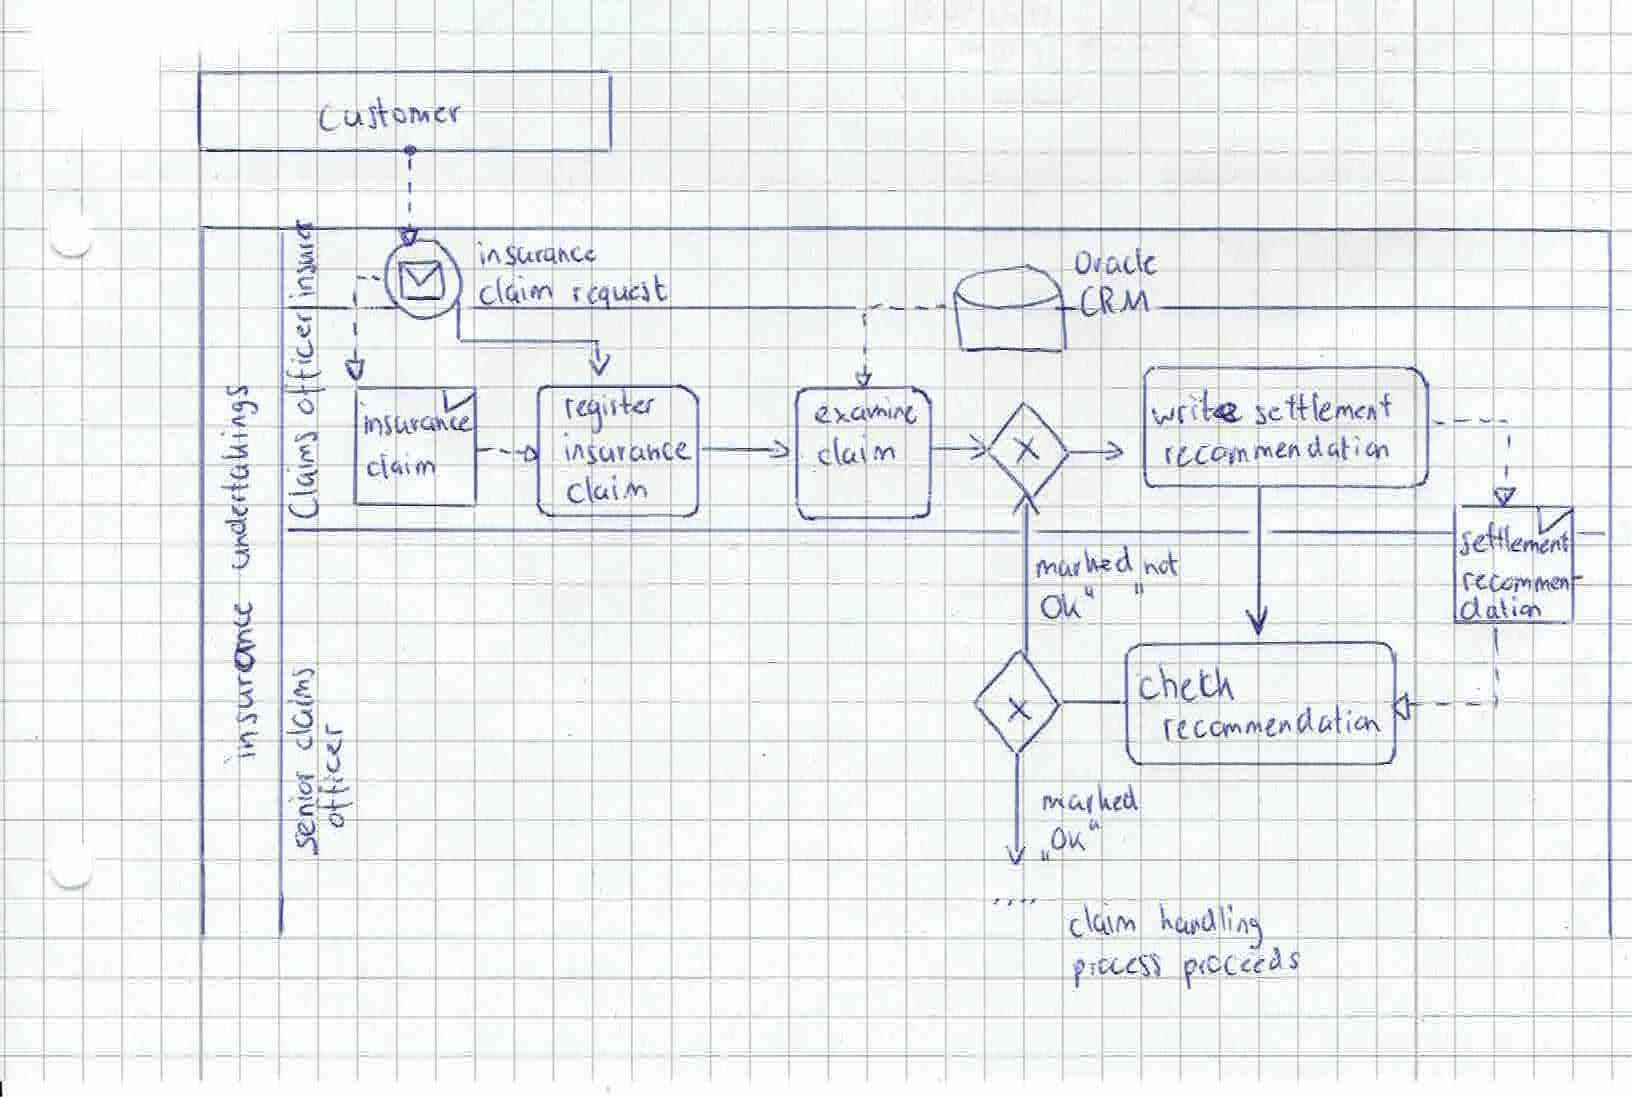CRM: (1072, 279, 1157, 323)
Claims: (280, 425, 327, 526)
Customer: (312, 89, 469, 137)
OK: (1035, 814, 1106, 867)
Ok: (1035, 582, 1098, 626)
Oracle: (1068, 242, 1164, 282)
check: (1132, 659, 1241, 709)
claim: (812, 430, 902, 474), (560, 470, 655, 511), (473, 271, 562, 312), (1060, 897, 1144, 942), (361, 449, 442, 485)
claims: (280, 660, 320, 755)
dation: (1454, 590, 1550, 626)
examine: (807, 394, 926, 432)
handling: (1155, 897, 1268, 955)
insurance: (215, 593, 264, 770), (354, 395, 480, 444), (558, 427, 695, 471), (471, 236, 604, 272)
insurer: (283, 213, 324, 305)
marked: (1035, 777, 1146, 820), (1031, 542, 1139, 584)
not: (1129, 546, 1186, 601)
officer: (278, 306, 331, 421), (311, 715, 359, 833)
proceeds: (1177, 942, 1308, 997)
process: (1068, 946, 1168, 997)
recommen-: (1456, 564, 1589, 597)
recommendation: (1157, 699, 1388, 751), (1157, 429, 1396, 473)
register: (560, 384, 660, 440)
request: (566, 269, 673, 313)
senior: (282, 764, 324, 862)
settlement: (1248, 384, 1401, 432), (1452, 515, 1576, 561)
undertakings: (215, 377, 264, 575)
write: (1146, 381, 1248, 432)
